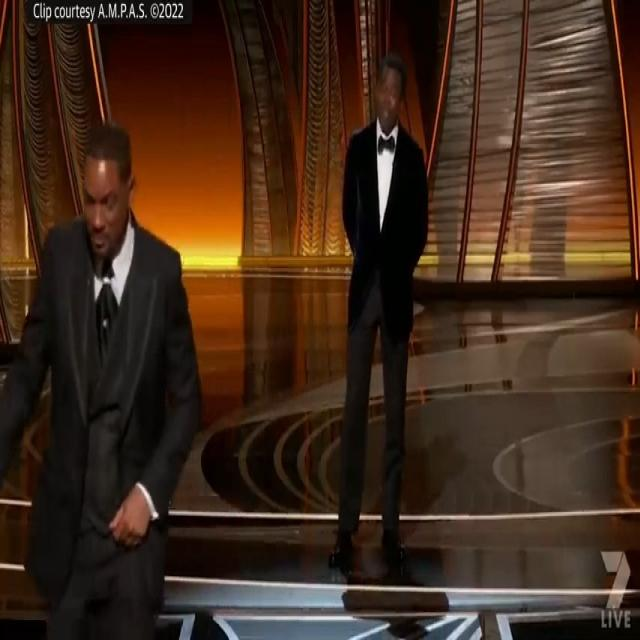non-fight: (0, 104, 205, 640), (313, 52, 440, 590)
